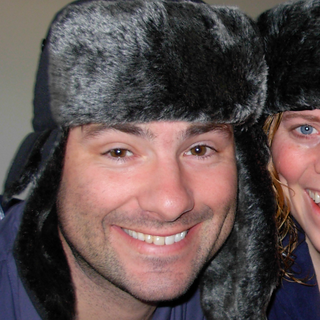eye: (91, 141, 143, 167), (175, 139, 227, 164), (282, 119, 320, 140)
